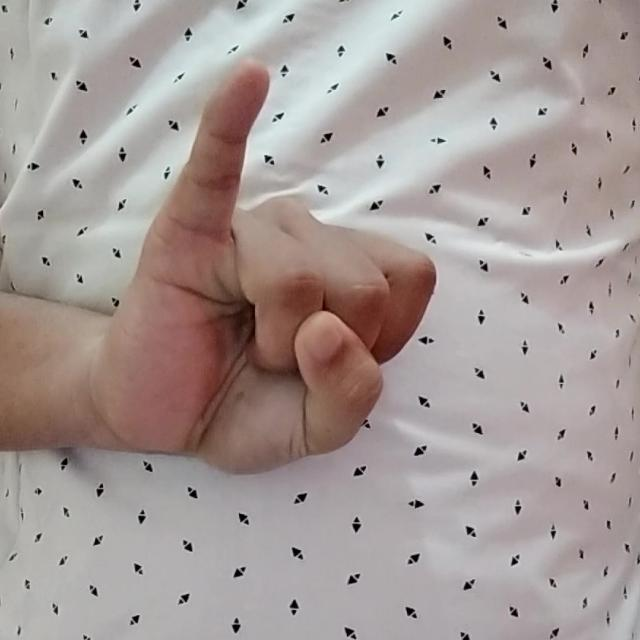I: (80, 53, 448, 492)
